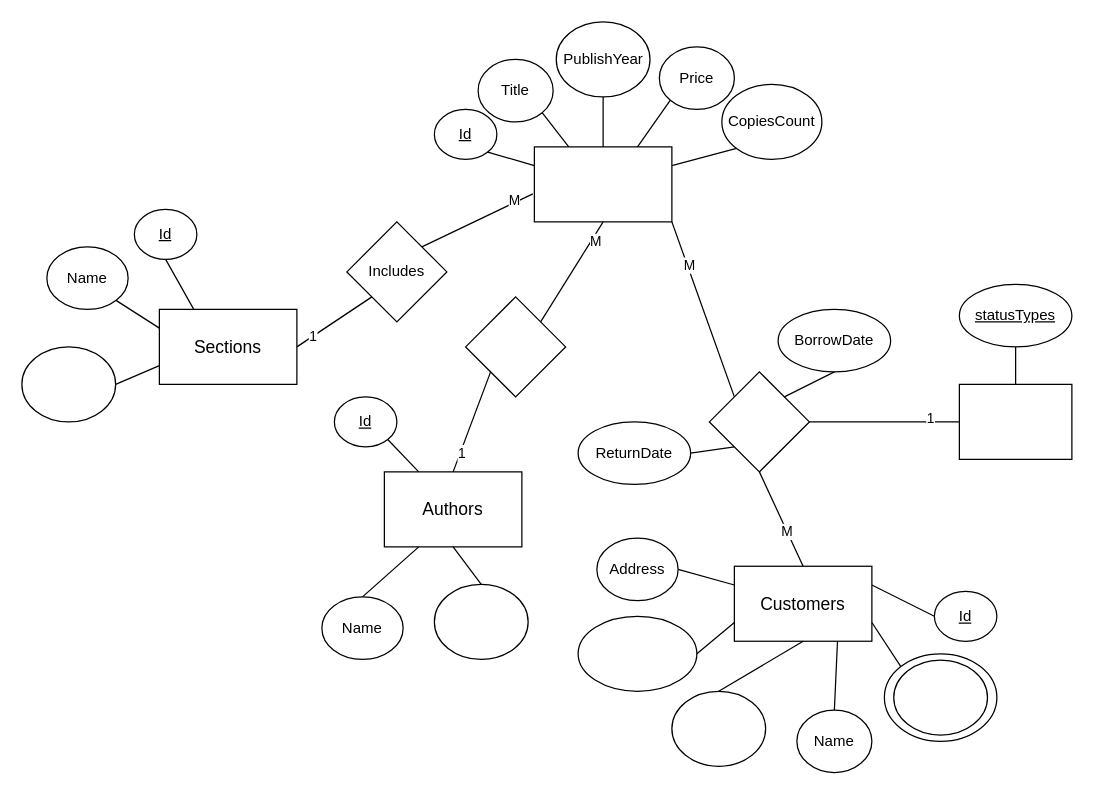
This 1094x795 diagram has some shape labels left out. The centre of each missing label's shape, as x and y in pixels:
"BirthDate" belongs at [480,621].
"Books" belongs at [602,184].
"Borrows" belongs at [758,421].
"Description" belongs at [68,384].
"Email" belongs at [718,728].
"Phone" belongs at [940,697].
"RegisterDate" belongs at [637,653].
"Status" belongs at [1015,421].
"Writes" belongs at [515,346].
